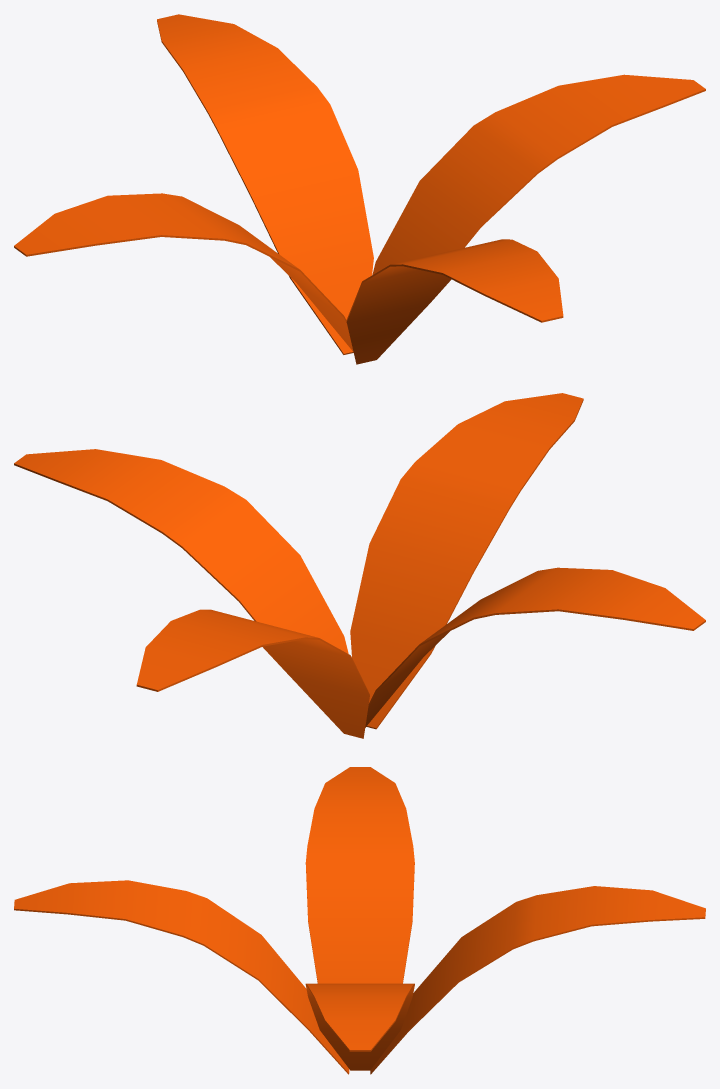
File: Grass004.fbx
The picture shows the model from 3 angles, top to bottom: view 1: azimuth 30°, elevation 25°; view 2: azimuth 150°, elevation 25°; view 3: azimuth 270°, elevation 25°; orthographic projection. The views are drawn at different scales.
Visible parts, largest first — view 1: Plane.004; view 2: Plane.004; view 3: Plane.004.
Part boxes in pixels (box(x1,y1,x2,y2)): Plane.004: box(14, 14, 705, 364); Plane.004: box(14, 393, 705, 738); Plane.004: box(14, 767, 705, 1074).
Bounding box in the file's own units: 77.42 × 21.57 × 80.04.
1 material, 1 textured.
